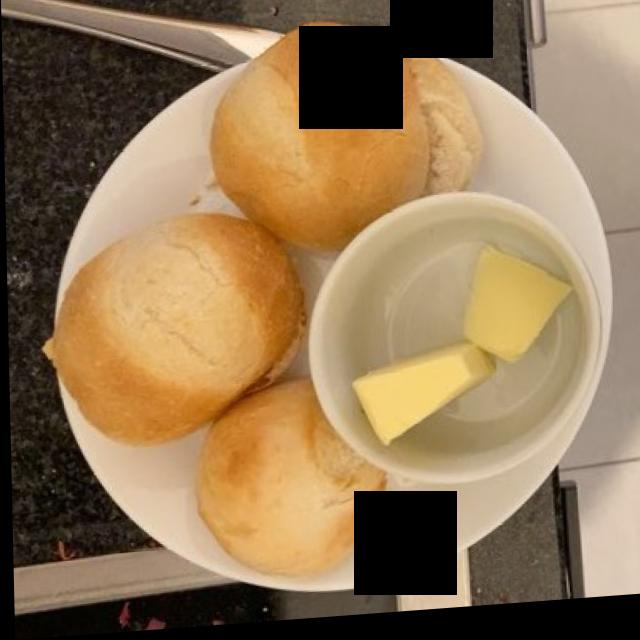bread-white: (51, 64, 472, 545)
butter: (352, 251, 564, 451)
